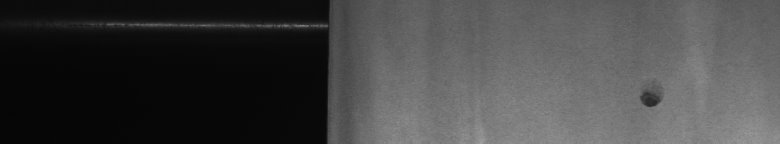fi: (634, 76, 668, 116)
